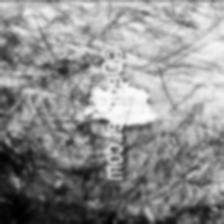Potentially Malignant Skin Tumors: (82, 78, 156, 126)
